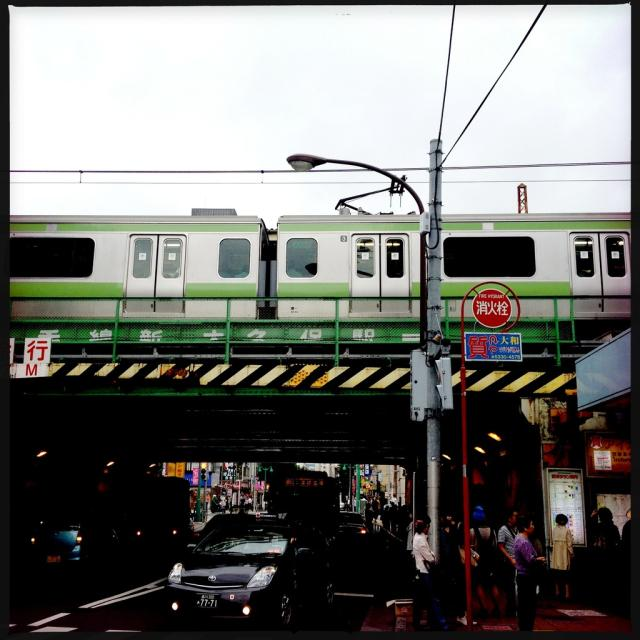car: (158, 521, 348, 635)
